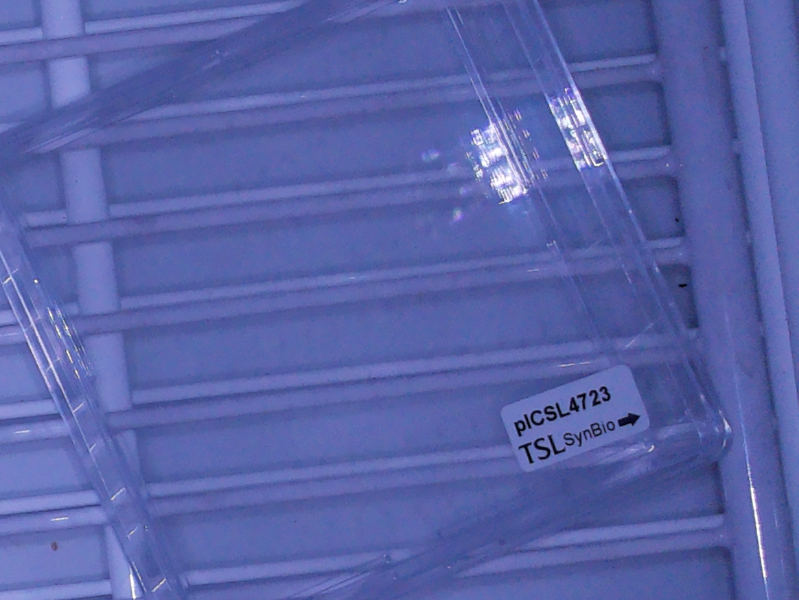plate: (1, 1, 733, 599)
